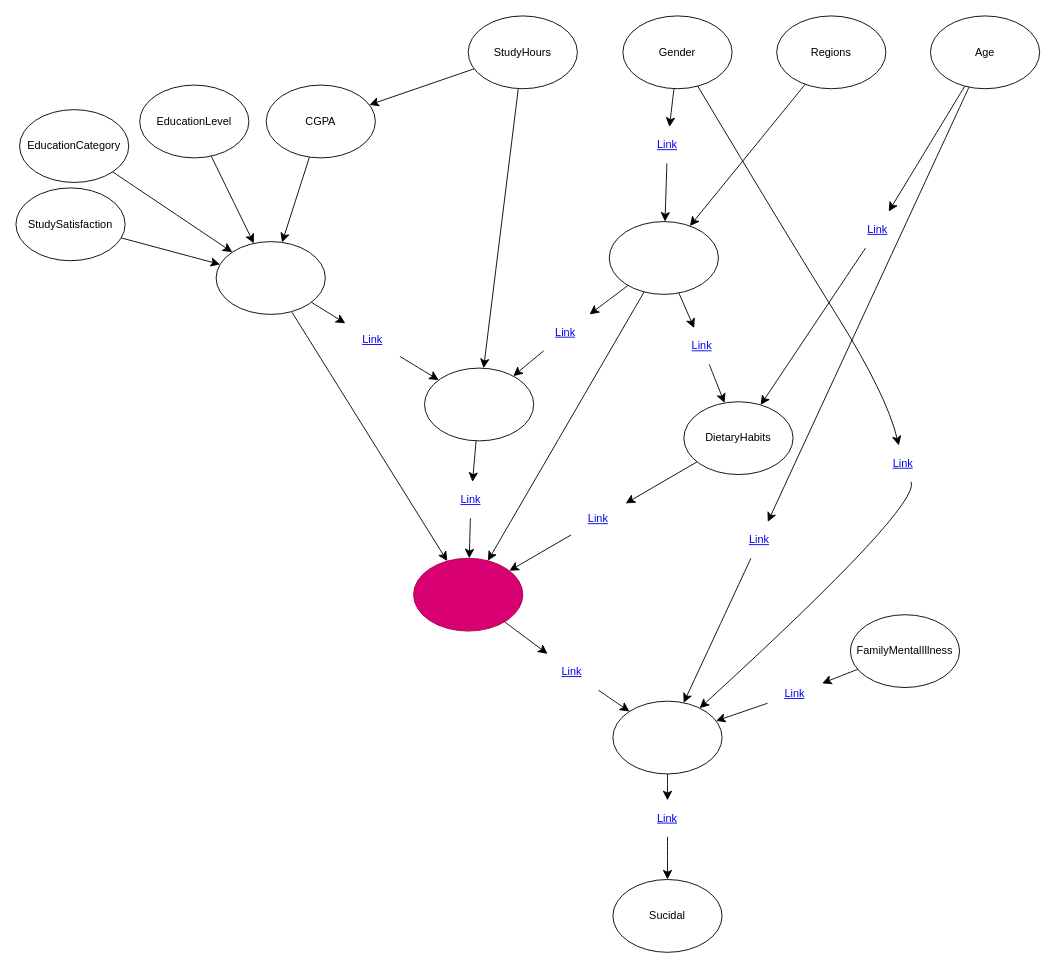
The diagram is 1056 pixels wide and 968 high, and some of its shapes have lost their labels. The shapes that lost their labels are listed below. From the top down, each one's box as (x1, y1, x2, y2) in pixels, then its label:
(215, 241, 325, 314): AcademicPressure
(608, 221, 718, 294): FinancialStress
(424, 367, 534, 441): SleepDuration
(413, 557, 523, 631): Stress
(612, 700, 722, 774): Depression
